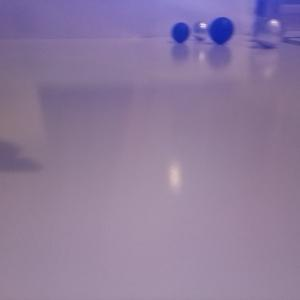alive_ball: (253, 18, 284, 48), (193, 21, 208, 41)
dead_ball: (209, 17, 234, 45), (171, 22, 190, 44)
